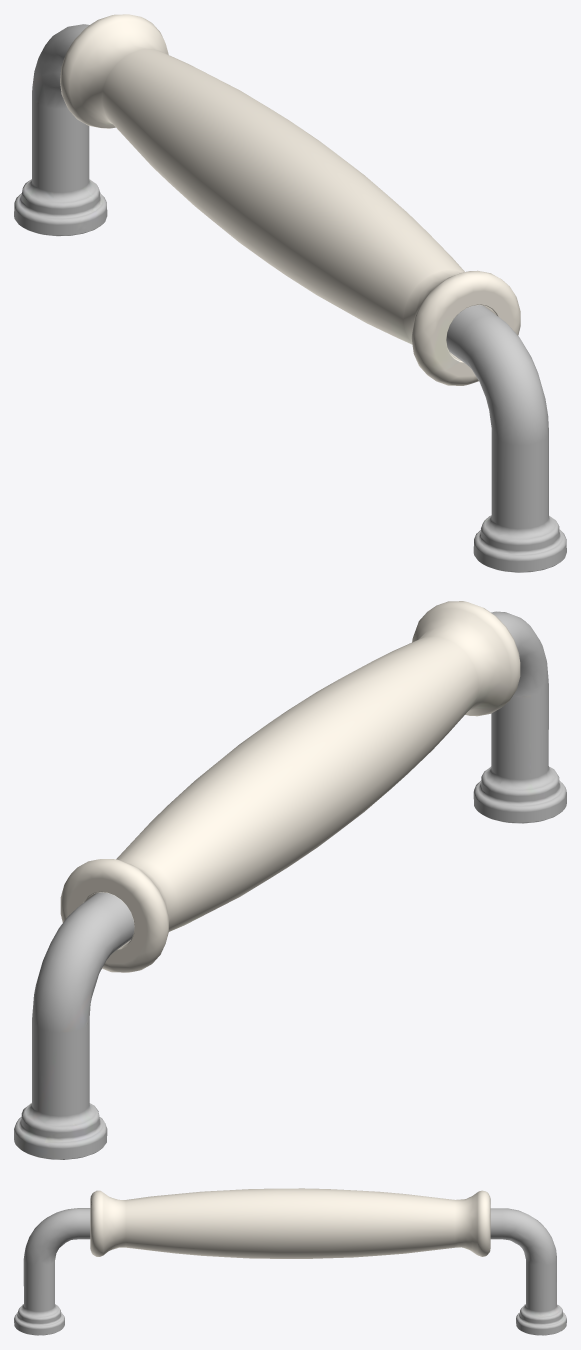
The model's file is KLINGSTORP úchytka - krémovápochromované (90553685).glb.
3 views of the same model, one above another, from view 1: azimuth 30°, elevation 25°; view 2: azimuth 150°, elevation 25°; view 3: azimuth 270°, elevation 25° (orthographic). The views are drawn at different scales.
Visible parts, largest first — view 1: model; view 2: model; view 3: model.
Part boxes in pixels (bbox=[...]): model: bbox=[14, 14, 566, 572]; model: bbox=[14, 601, 566, 1159]; model: bbox=[14, 1188, 566, 1335].
Size of the model in its own units: 0.018 by 0.0375 by 0.141.
Materials: 1 (1 with a texture image).
